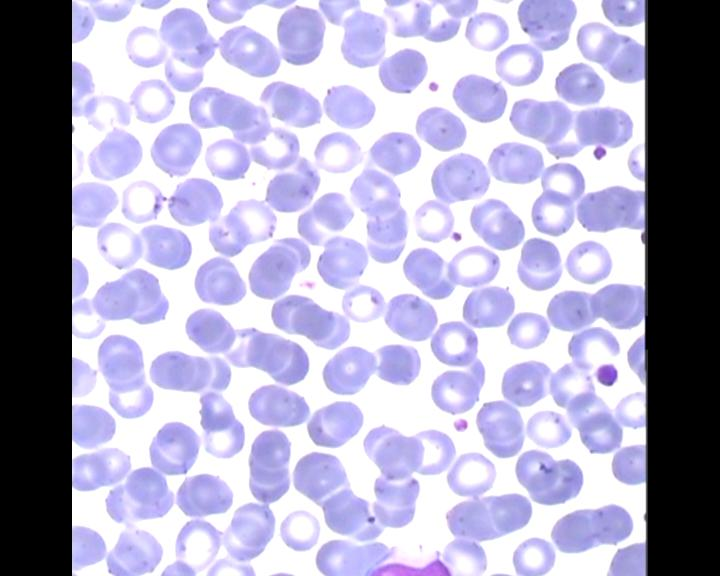mono: (363, 537, 466, 576)
